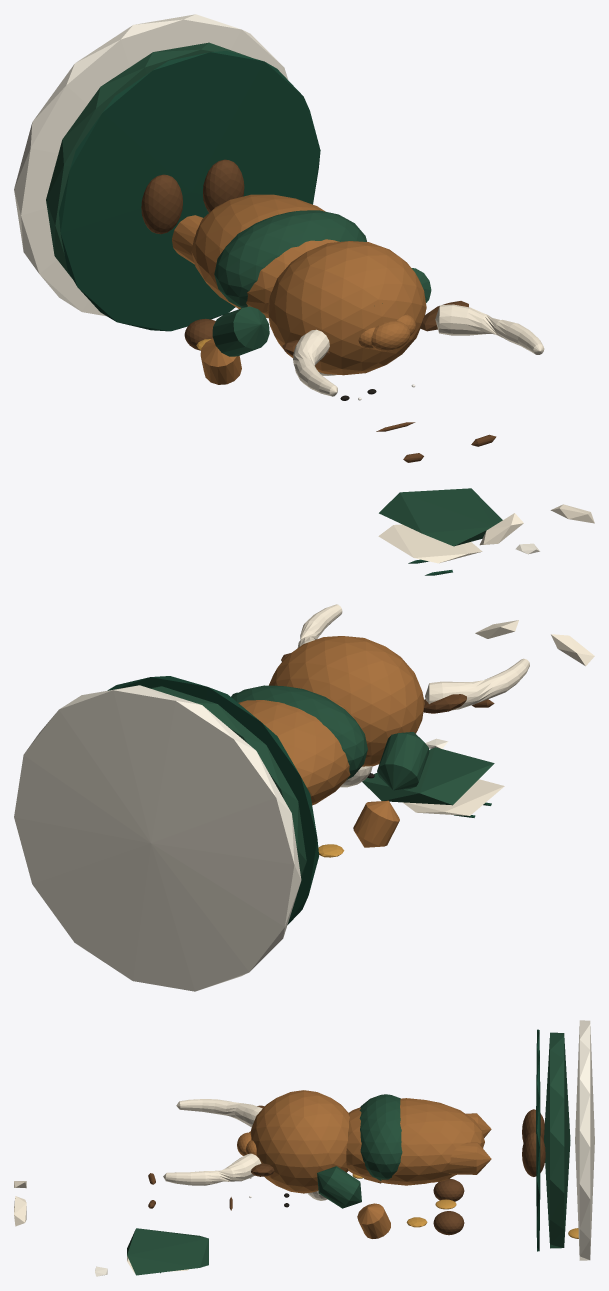
Rendered from kontrakpaham-guardian-bull-light.glb.
3 renders of one model, top to bottom at view 1: azimuth 30°, elevation 25°; view 2: azimuth 150°, elevation 25°; view 3: azimuth 270°, elevation 25°, orthographic. The views are drawn at different scales.
Parts seen in each view (by area): view 1: podium_top_bevel, head, podium_base_ivory, shirt_upper, torso, folder_back, podium_top_green, horn_right, left_upper_arm, left_hoof, folder_paper, horn_left (+4 smaller); view 2: podium_base_ivory, head, torso, podium_top_bevel, folder_back, shirt_upper, podium_top_green, left_upper_arm, horn_left, left_forearm, folder_paper, horn_right (+2 smaller); view 3: head, torso, podium_top_green, podium_base_ivory, shirt_upper, folder_back, horn_right, right_upper_arm, horn_left, right_leg, podium_top_bevel, right_forearm (+4 smaller).
Boxes of the visible parts, left/top/right/bottom form: podium_top_bevel: left=59, top=50, right=320, bottom=331; head: left=267, top=241, right=426, bottom=375; podium_base_ivory: left=14, top=14, right=288, bottom=316; shirt_upper: left=214, top=210, right=366, bottom=308; torso: left=191, top=194, right=339, bottom=318; folder_back: left=379, top=488, right=502, bottom=546; podium_top_green: left=46, top=42, right=250, bottom=278; horn_right: left=435, top=304, right=544, bottom=354; left_upper_arm: left=212, top=306, right=269, bottom=356; left_hoof: left=141, top=174, right=182, bottom=234; folder_paper: left=378, top=524, right=482, bottom=563; horn_left: left=293, top=329, right=337, bottom=396; podium_base_ivory: left=14, top=685, right=301, bottom=991; head: left=269, top=636, right=424, bottom=766; torso: left=238, top=692, right=357, bottom=805; podium_top_bevel: left=107, top=676, right=318, bottom=924; folder_back: left=362, top=747, right=494, bottom=805; shirt_upper: left=231, top=685, right=367, bottom=779; podium_top_green: left=150, top=686, right=306, bottom=878; left_upper_arm: left=377, top=732, right=429, bottom=790; horn_left: left=425, top=658, right=529, bottom=710; left_forearm: left=353, top=800, right=399, bottom=847; folder_paper: left=402, top=779, right=504, bottom=815; horn_right: left=297, top=604, right=342, bottom=647; head: left=250, top=1090, right=349, bottom=1193; torso: left=346, top=1098, right=484, bottom=1185; podium_top_green: left=544, top=1032, right=570, bottom=1248; podium_base_ivory: left=575, top=1020, right=594, bottom=1260; shirt_upper: left=359, top=1094, right=402, bottom=1180; folder_back: left=127, top=1228, right=208, bottom=1275; horn_right: left=163, top=1153, right=261, bottom=1185; right_upper_arm: left=317, top=1166, right=361, bottom=1208; horn_left: left=176, top=1099, right=262, bottom=1127; right_leg: left=447, top=1142, right=491, bottom=1174; podium_top_bevel: left=536, top=1029, right=540, bottom=1251; right_forearm: left=357, top=1203, right=390, bottom=1238.
Size of the model in its own units: 1.72 by 1.92 by 4.13.
